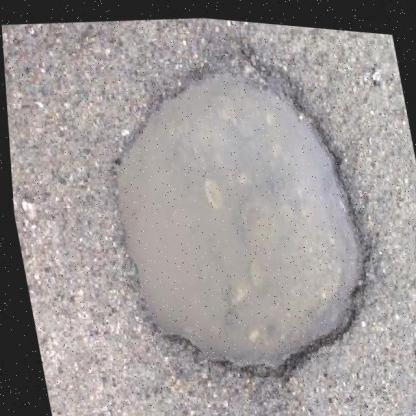pothole: (85, 39, 390, 403)
